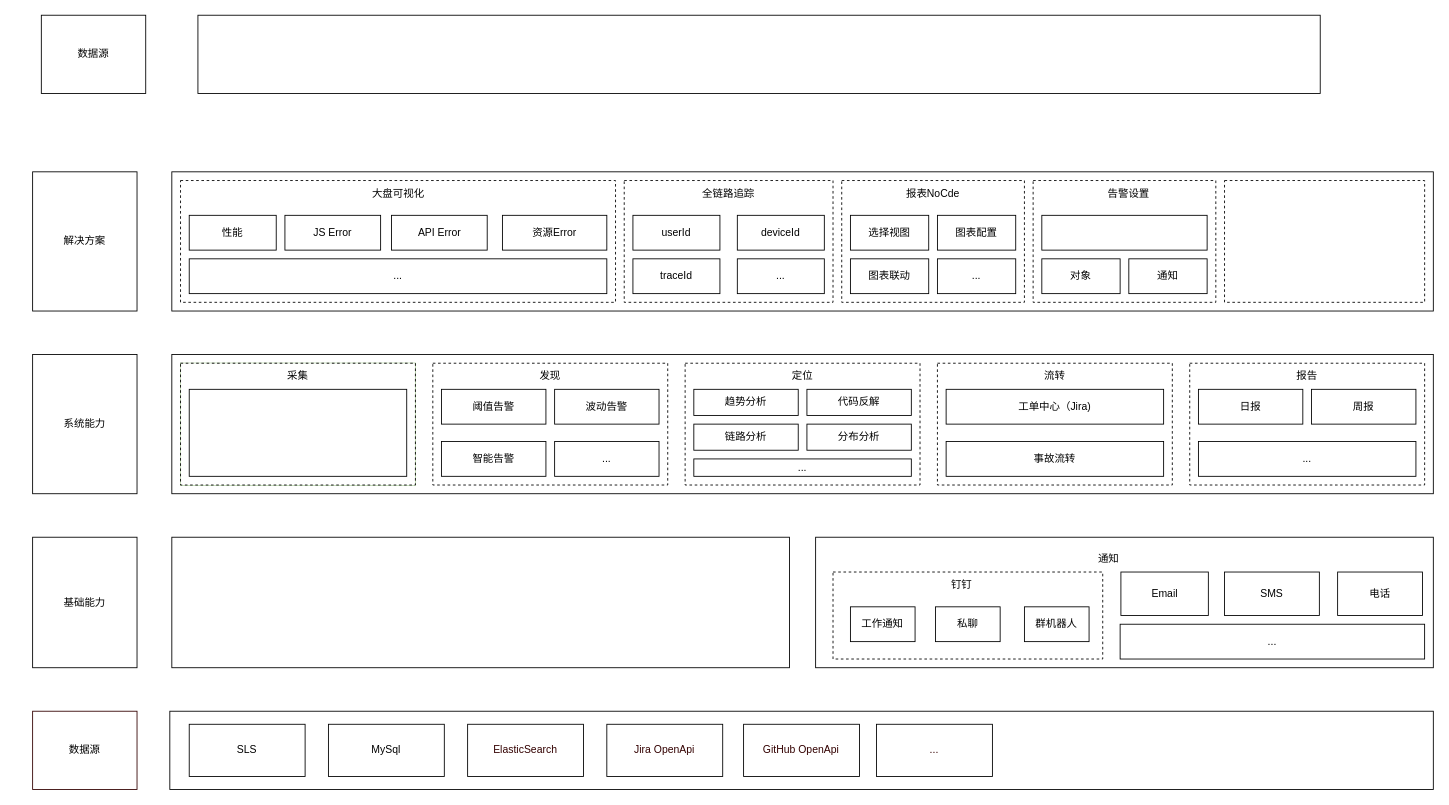
The diagram is 1449 pixels wide and 805 high, and some of its shapes have lost their labels. Each missing label, with the centre of its shape:
"SLS-RUM（前端性能监控sdk）" goes at point (297, 432).
"规则" goes at point (1124, 232).
"视图" goes at point (480, 602).
